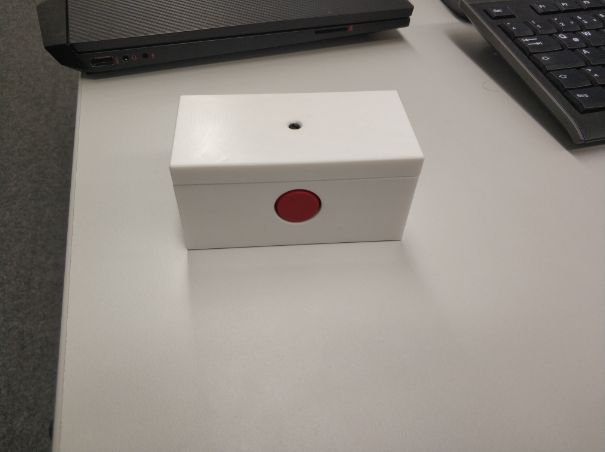white+white+red: (165, 90, 428, 255)
